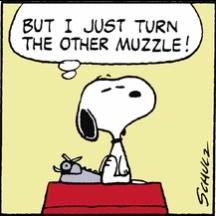snoopy: (75, 73, 157, 185)
